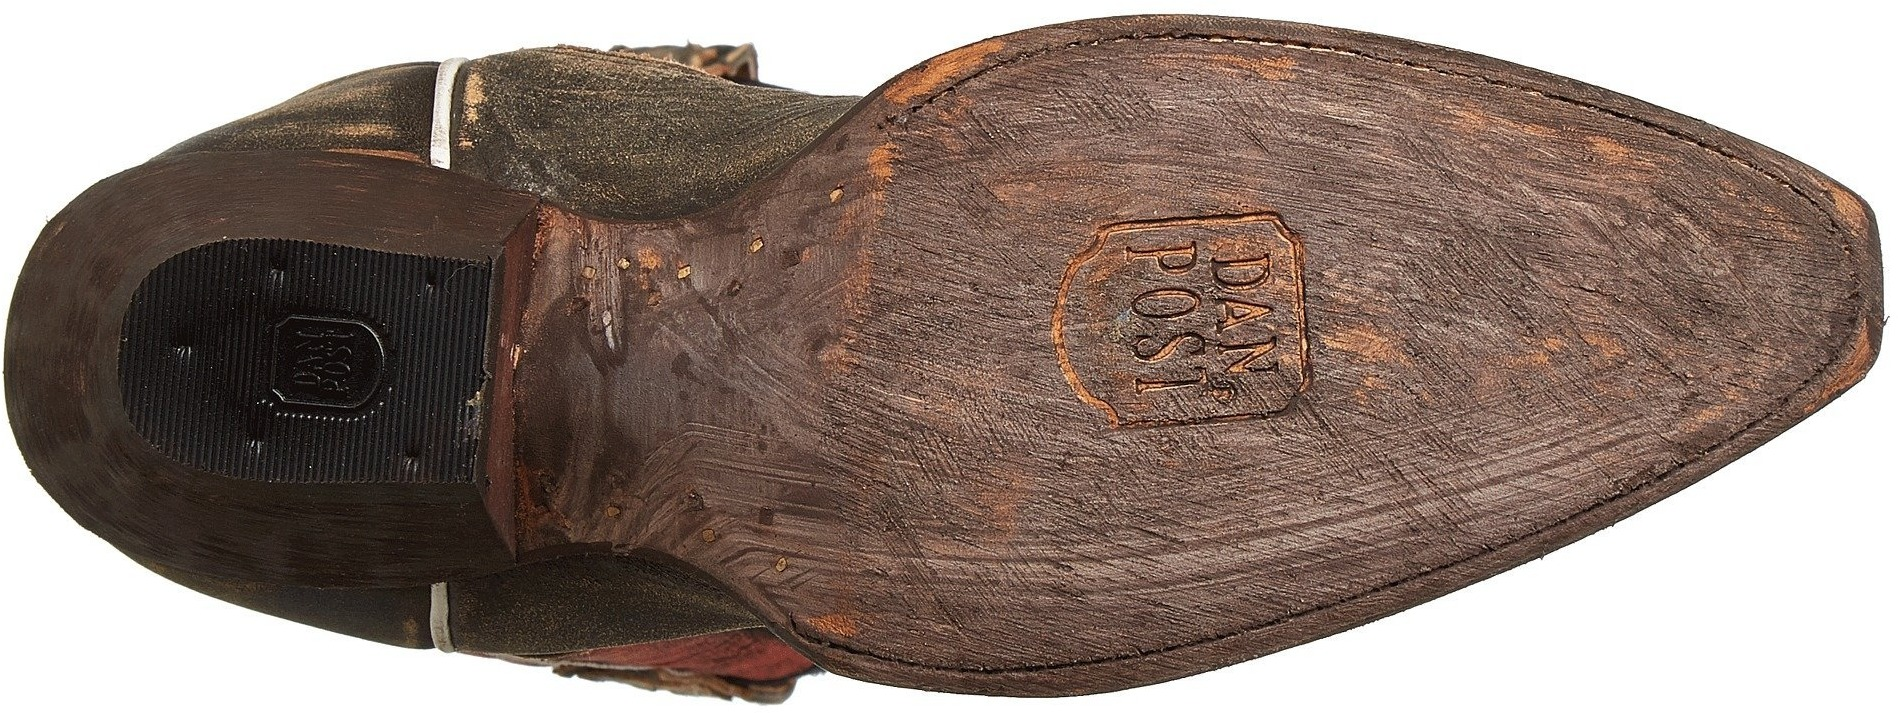other: (1319, 117, 1676, 462), (688, 218, 1043, 548), (1076, 430, 1278, 609), (1095, 44, 1282, 208), (140, 297, 276, 416)
text: (1104, 232, 1292, 406), (286, 323, 362, 399)
